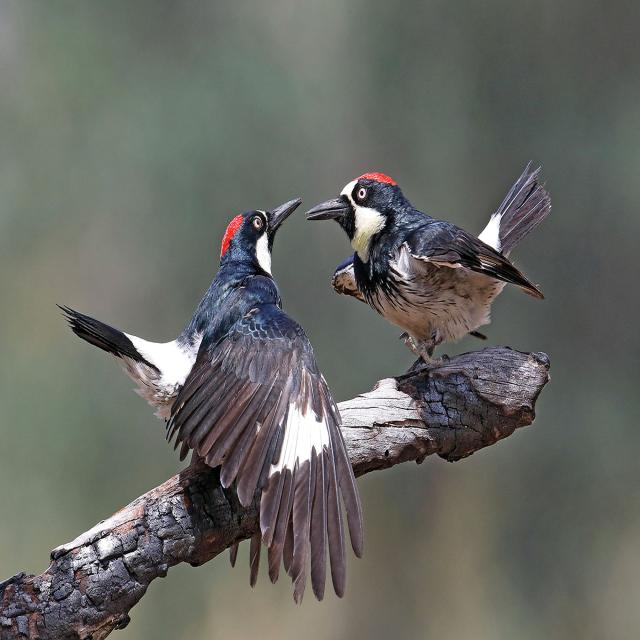Woodpecker: (78, 191, 302, 459), (308, 162, 550, 342)
